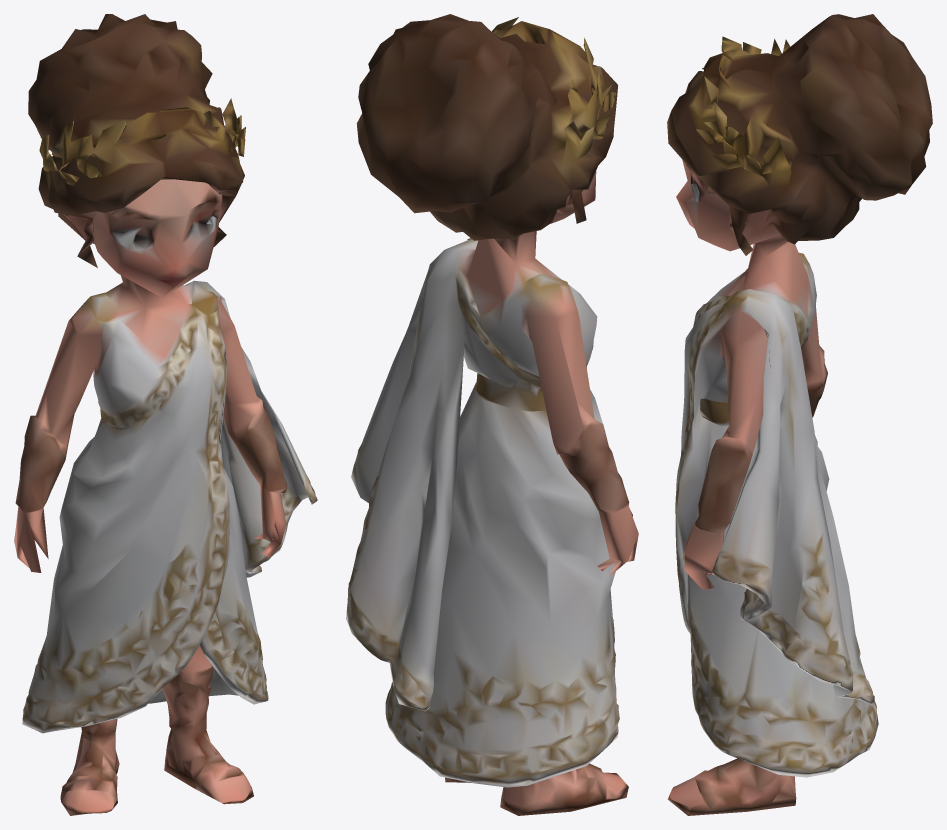
File: hoplit_f_lo.glb
The picture shows the model from 3 angles, left to right: view 1: azimuth 30°, elevation 25°; view 2: azimuth 150°, elevation 25°; view 3: azimuth 270°, elevation 25°; orthographic projection. The views are drawn at different scales.
Size of the model in its own units: 0.7453 by 1.9 by 0.5956.
